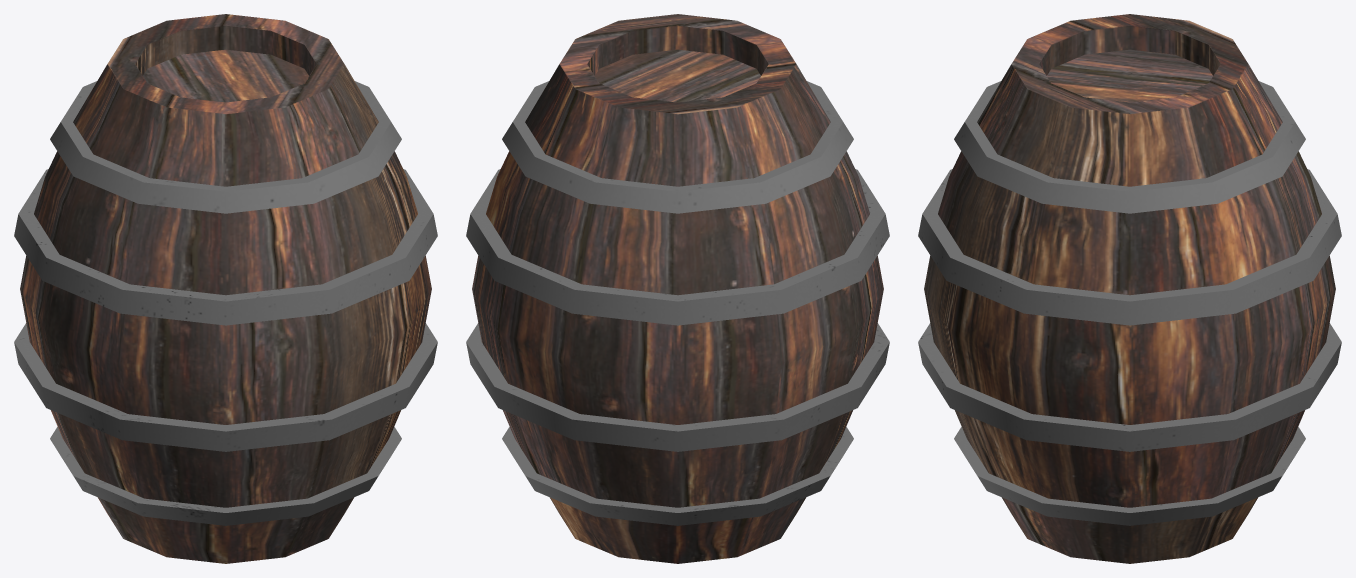
File: Barrel.fbx
3 views of the same model, side by side, from view 1: azimuth 30°, elevation 25°; view 2: azimuth 150°, elevation 25°; view 3: azimuth 270°, elevation 25° (orthographic).
Visible parts, largest first — view 1: Barrel; view 2: Barrel; view 3: Barrel.
Boxes of the visible parts, box(x1,y1,x2,y2) form: Barrel: box(14, 14, 437, 563); Barrel: box(466, 14, 889, 563); Barrel: box(918, 14, 1341, 563).
Size of the model in its own units: 93.95 by 110 by 93.95.
